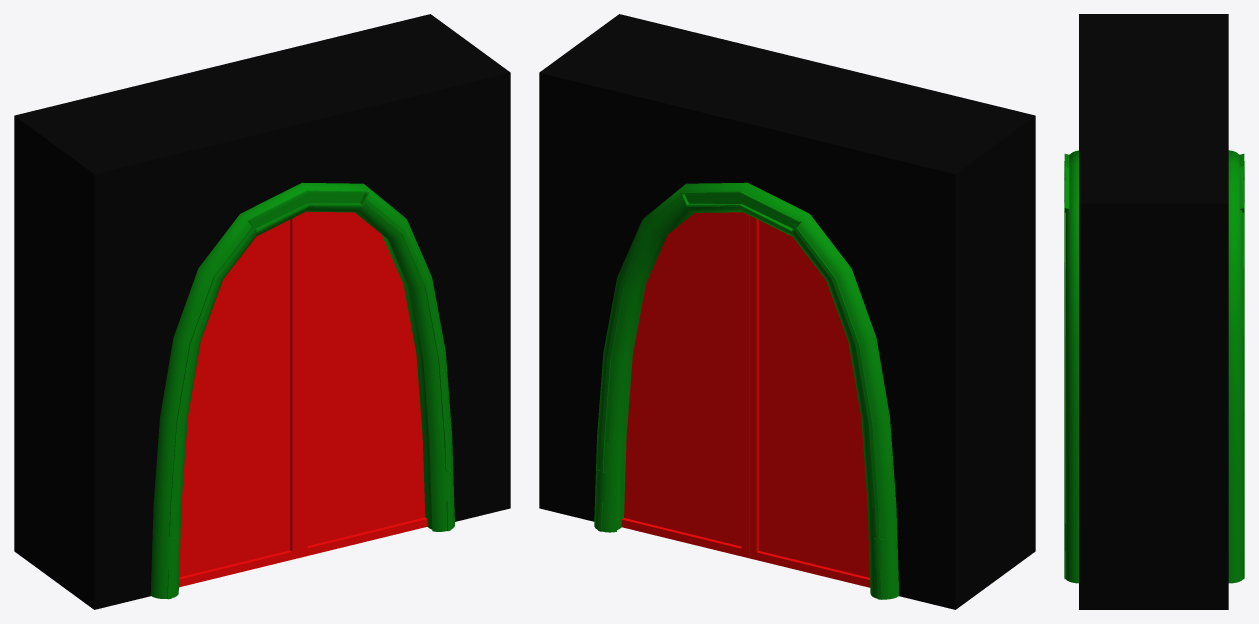
File: DoorFinal.FBX
The picture shows the model from 3 angles, left to right: view 1: azimuth 30°, elevation 25°; view 2: azimuth 150°, elevation 25°; view 3: azimuth 270°, elevation 25°; orthographic projection. The views are drawn at different scales.
Parts seen in each view (by area): view 1: DoorOutline, DooRight, DoorLeft, DoorDelimitation1; view 2: DoorOutline, DoorLeft, DoorRight, DoorDelimitation002; view 3: DoorOutline, DoorDelimitation002, DoorDelimitation1.
Part boxes in pixels (x1,y1,x2,y2): DoorOutline: (14, 14, 510, 609); DooRight: (300, 211, 427, 557); DoorLeft: (179, 215, 299, 587); DoorDelimitation1: (150, 182, 454, 599); DoorOutline: (539, 14, 1035, 609); DoorLeft: (621, 212, 749, 558); DoorRight: (749, 215, 870, 587); DoorDelimitation002: (594, 182, 899, 599); DoorOutline: (1079, 14, 1228, 609); DoorDelimitation002: (1228, 150, 1244, 583); DoorDelimitation1: (1064, 150, 1078, 583).
Bounding box in the file's own units: 118 × 118 × 47.53.
